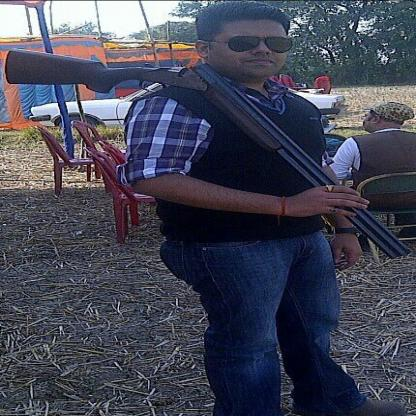rifle: (3, 46, 414, 262)
